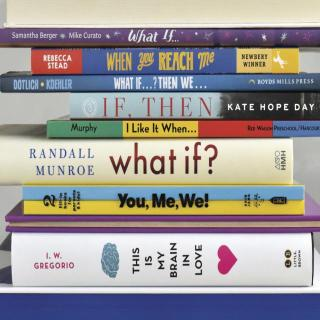book-spine: (0, 124, 293, 185), (12, 233, 314, 286), (23, 186, 304, 215), (0, 70, 320, 93), (31, 48, 299, 74), (70, 93, 320, 119), (0, 28, 320, 47), (47, 119, 320, 138)
